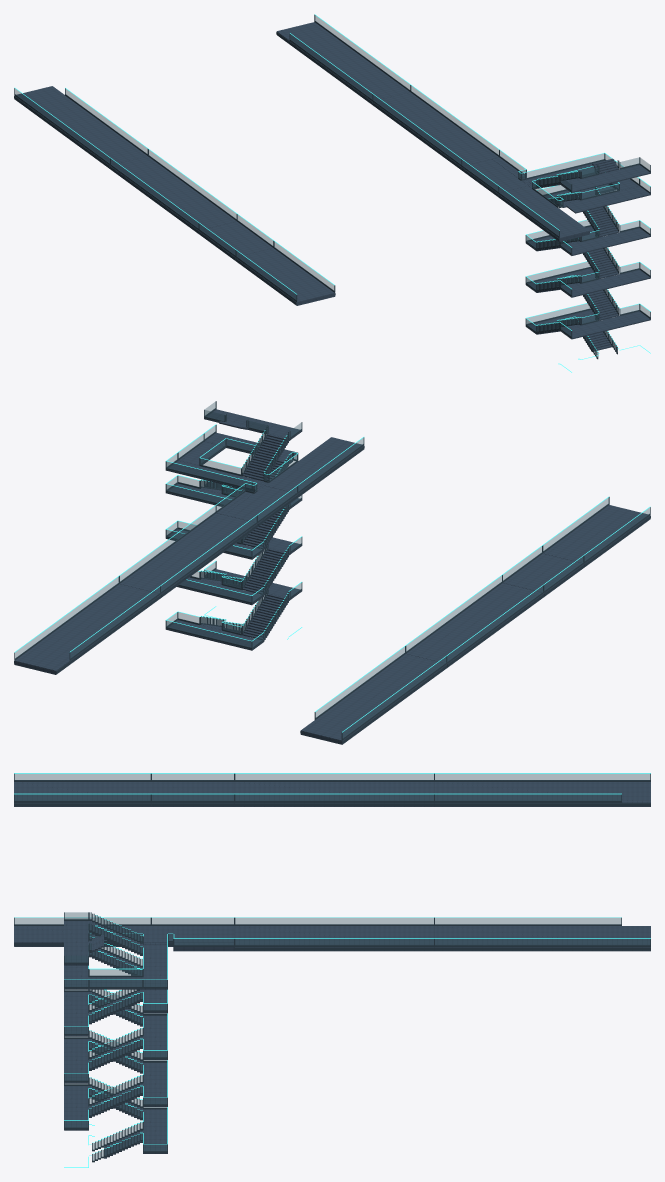
File: v02-detailed-01-06.glb
3 views of the same model, one above another, from view 1: azimuth 30°, elevation 25°; view 2: azimuth 150°, elevation 25°; view 3: azimuth 270°, elevation 25° (orthographic). The views are drawn at different scales.
Visible parts, largest first — view 1: v02-detailed-01-06; view 2: v02-detailed-01-06; view 3: v02-detailed-01-06.
Boxes of the visible parts, x1,y1,x2,y2 form: v02-detailed-01-06: [14, 14, 650, 372]; v02-detailed-01-06: [14, 401, 650, 744]; v02-detailed-01-06: [14, 773, 650, 1167].
Size of the model in its own units: 58.85 by 29.02 by 76.5.
Materials: 5 (1 with a texture image).
